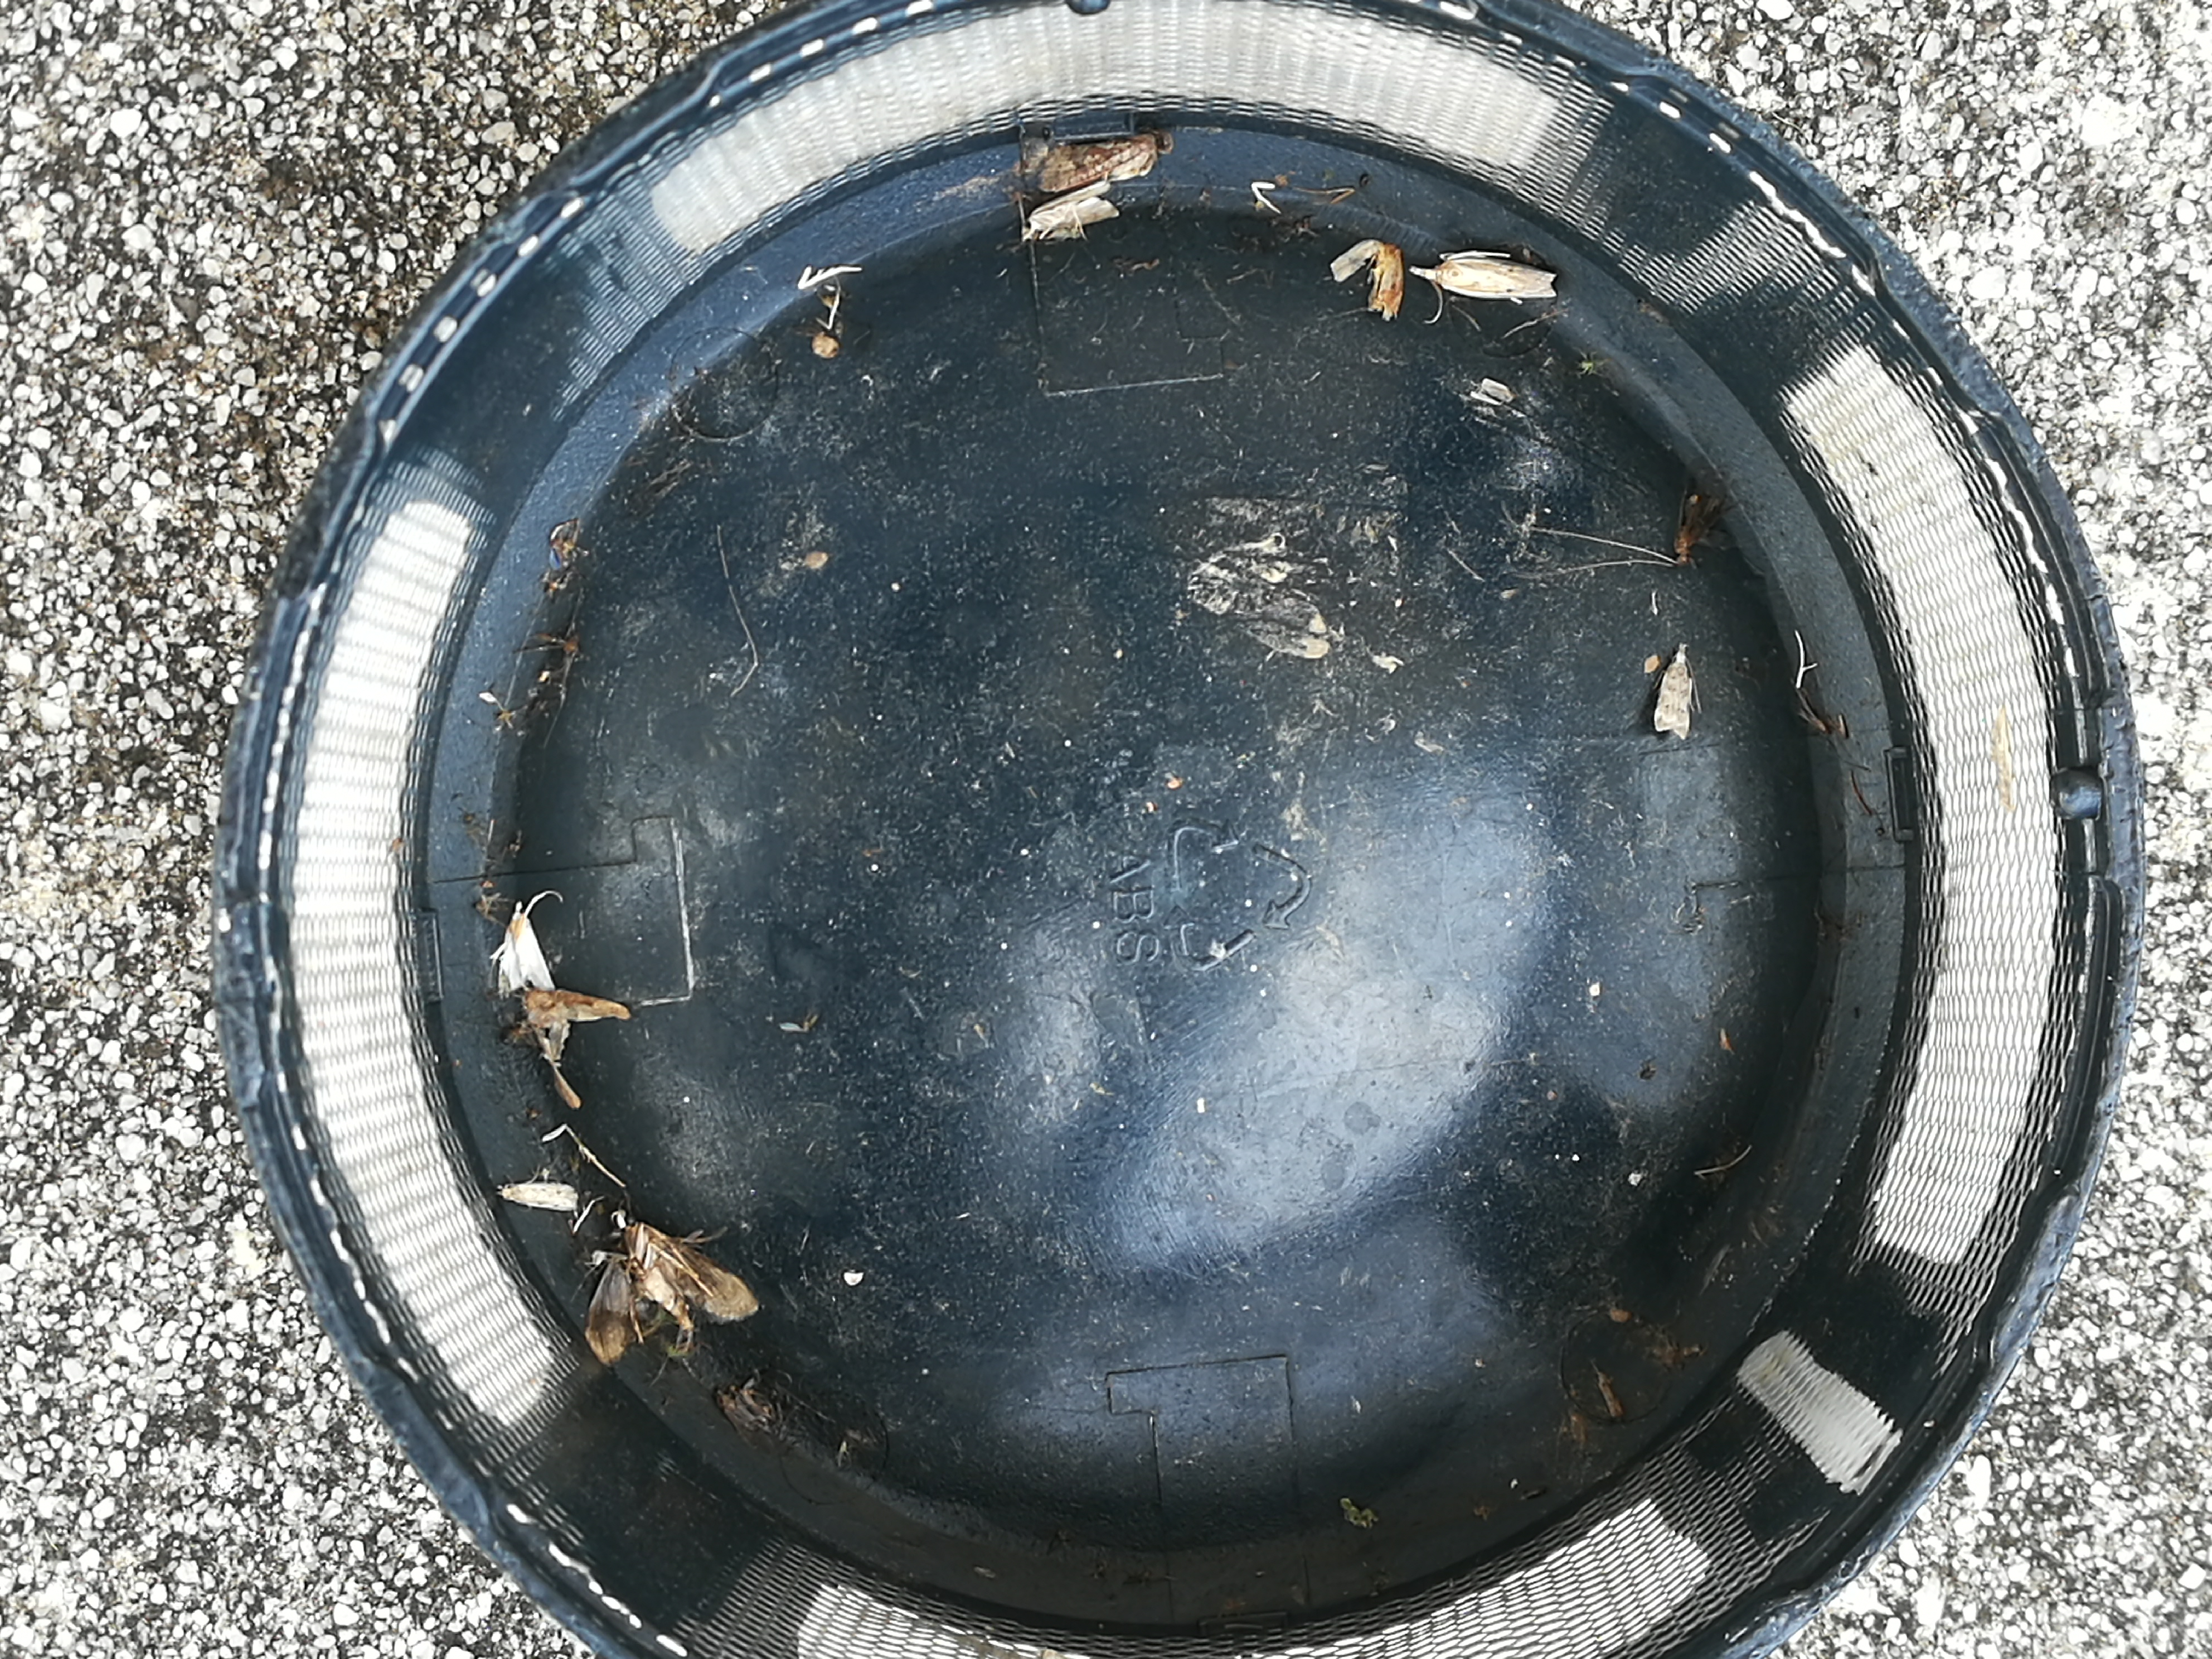mosquito: (1019, 181, 1120, 242), (1435, 258, 1554, 298), (1677, 474, 1723, 559), (1655, 643, 1688, 741), (496, 1183, 573, 1208)
moth: (585, 1209, 758, 1370), (1042, 131, 1172, 190), (496, 903, 554, 992), (1336, 240, 1400, 315)
